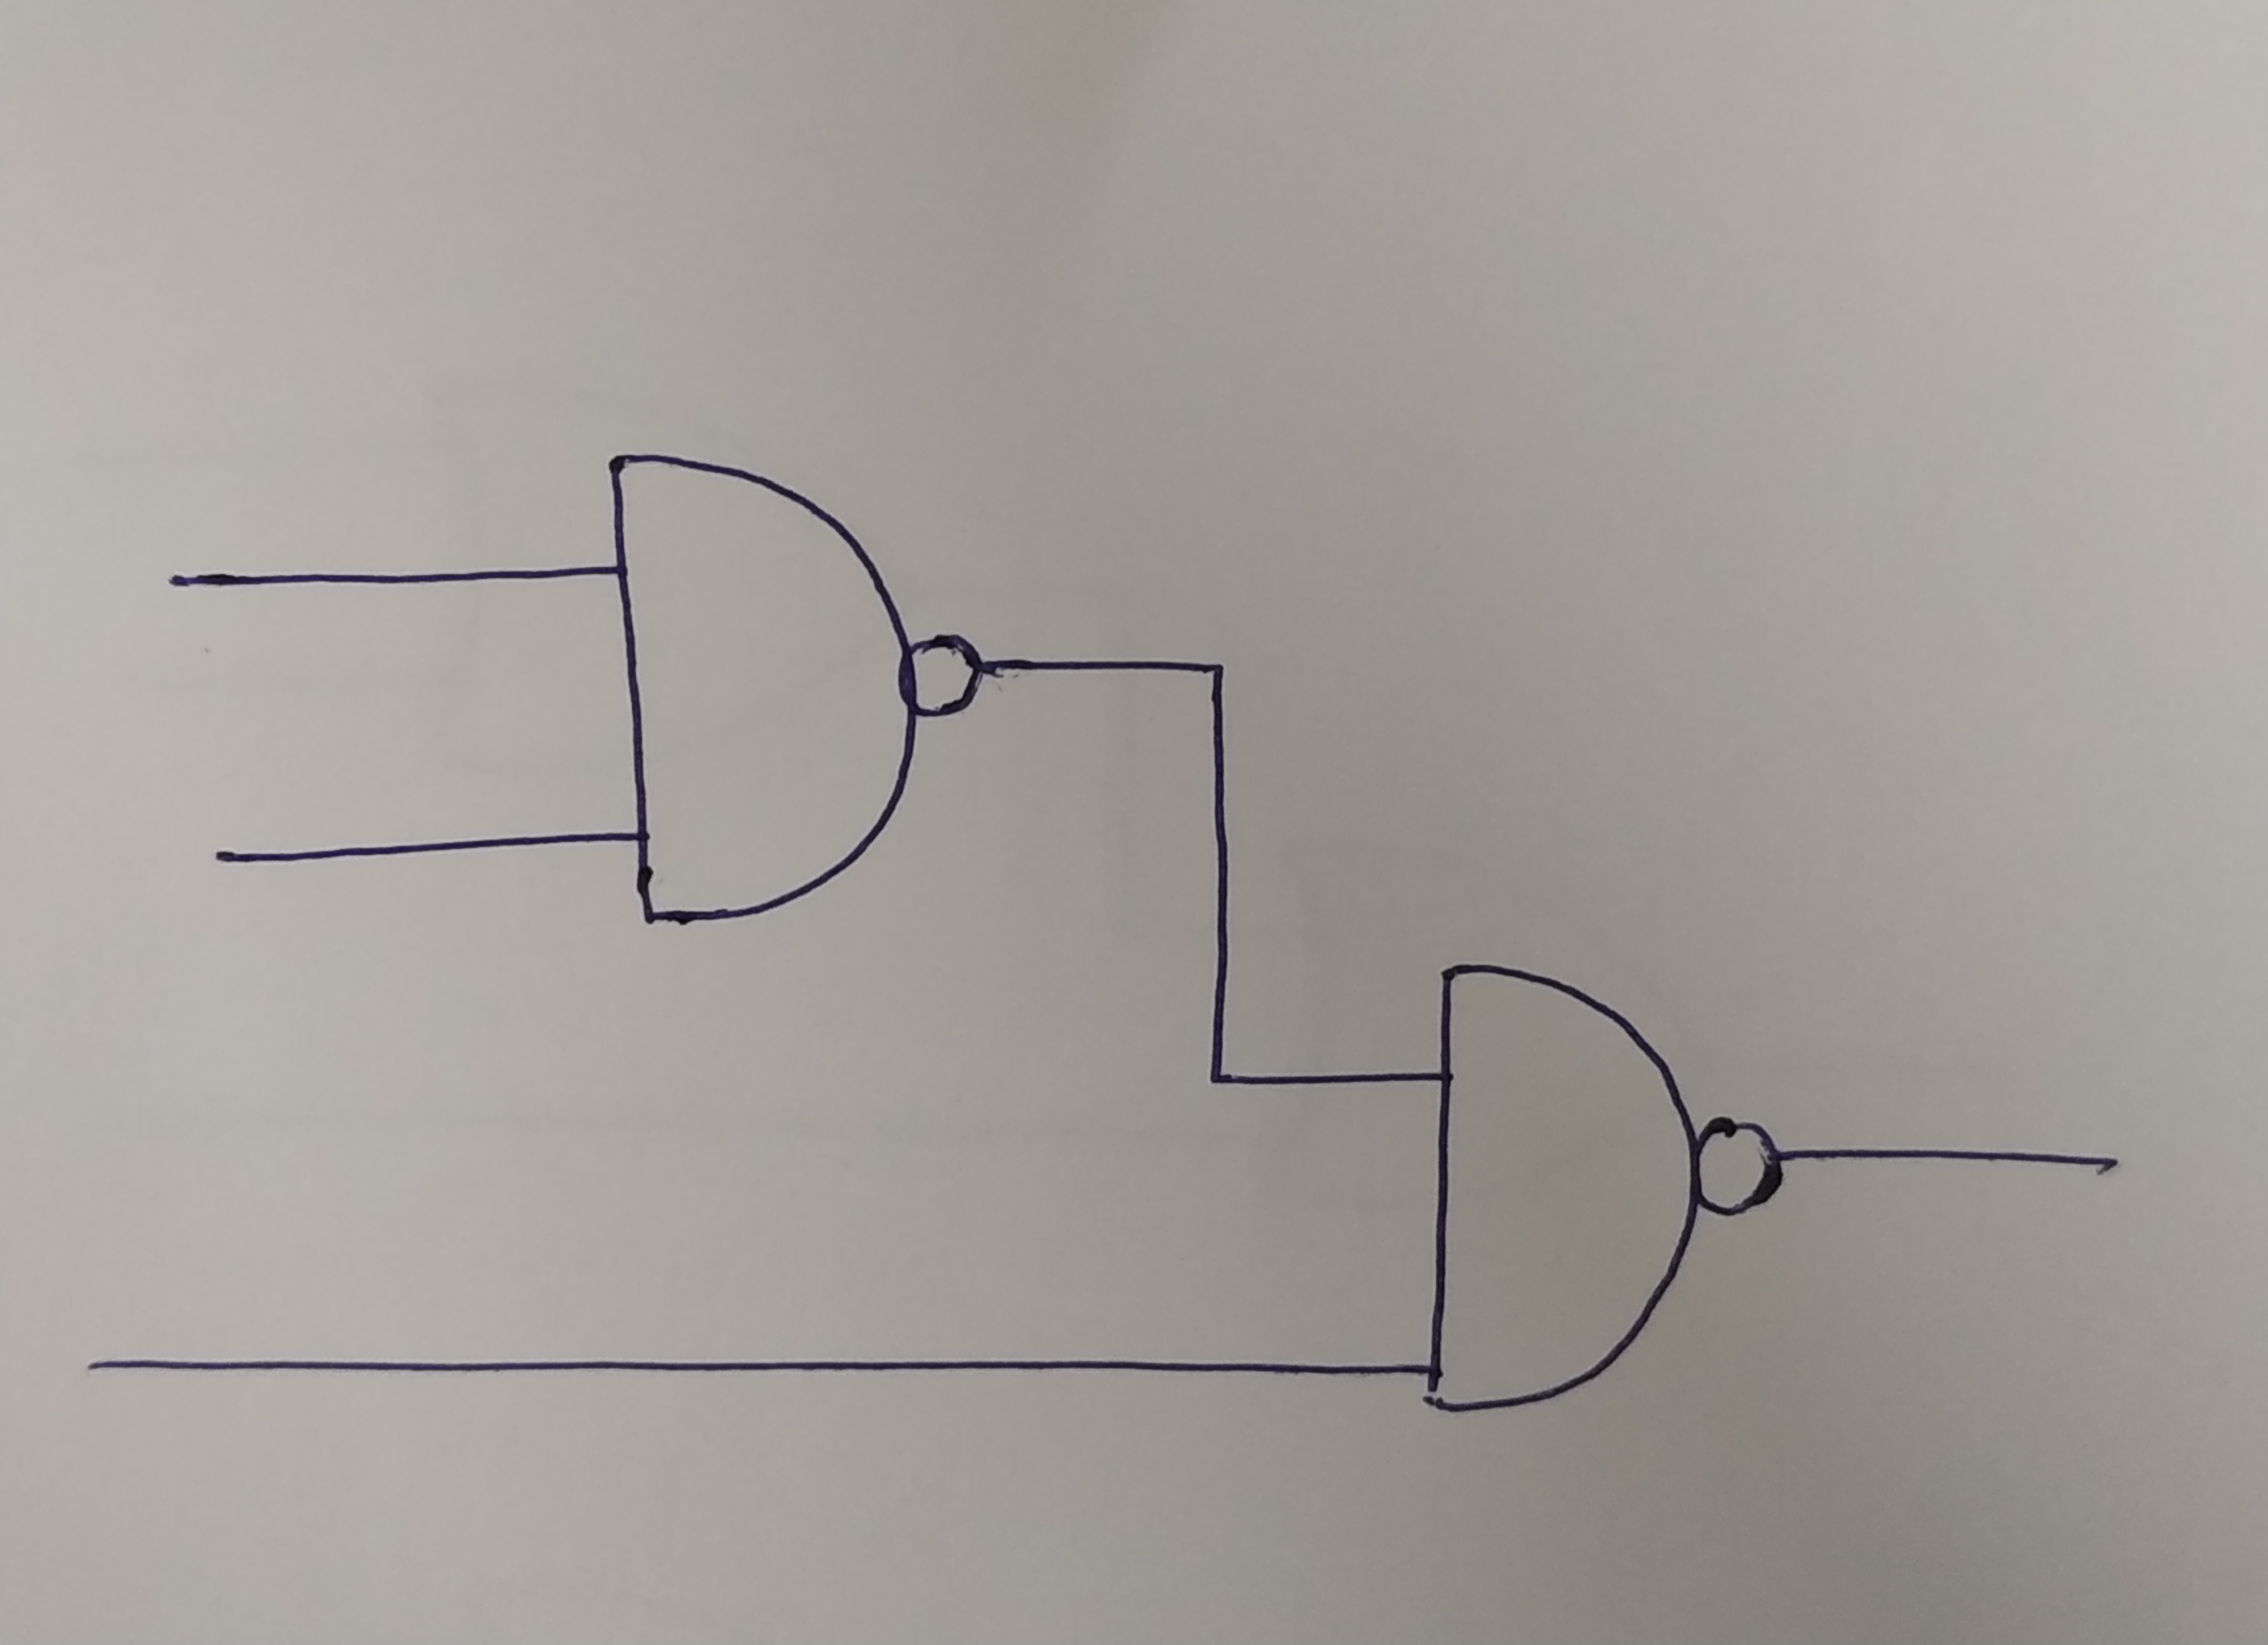and: (606, 458, 917, 918), (1435, 969, 1690, 1416)
not: (1699, 1117, 1777, 1215), (910, 638, 976, 717)
